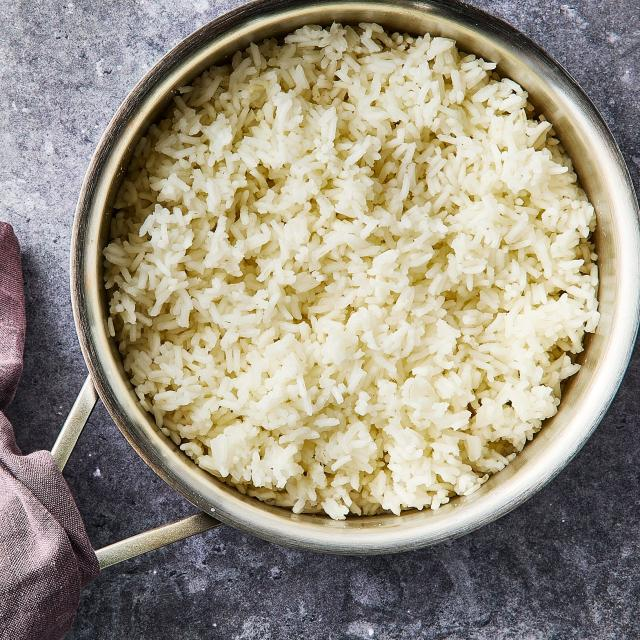rice: (120, 22, 573, 508)
